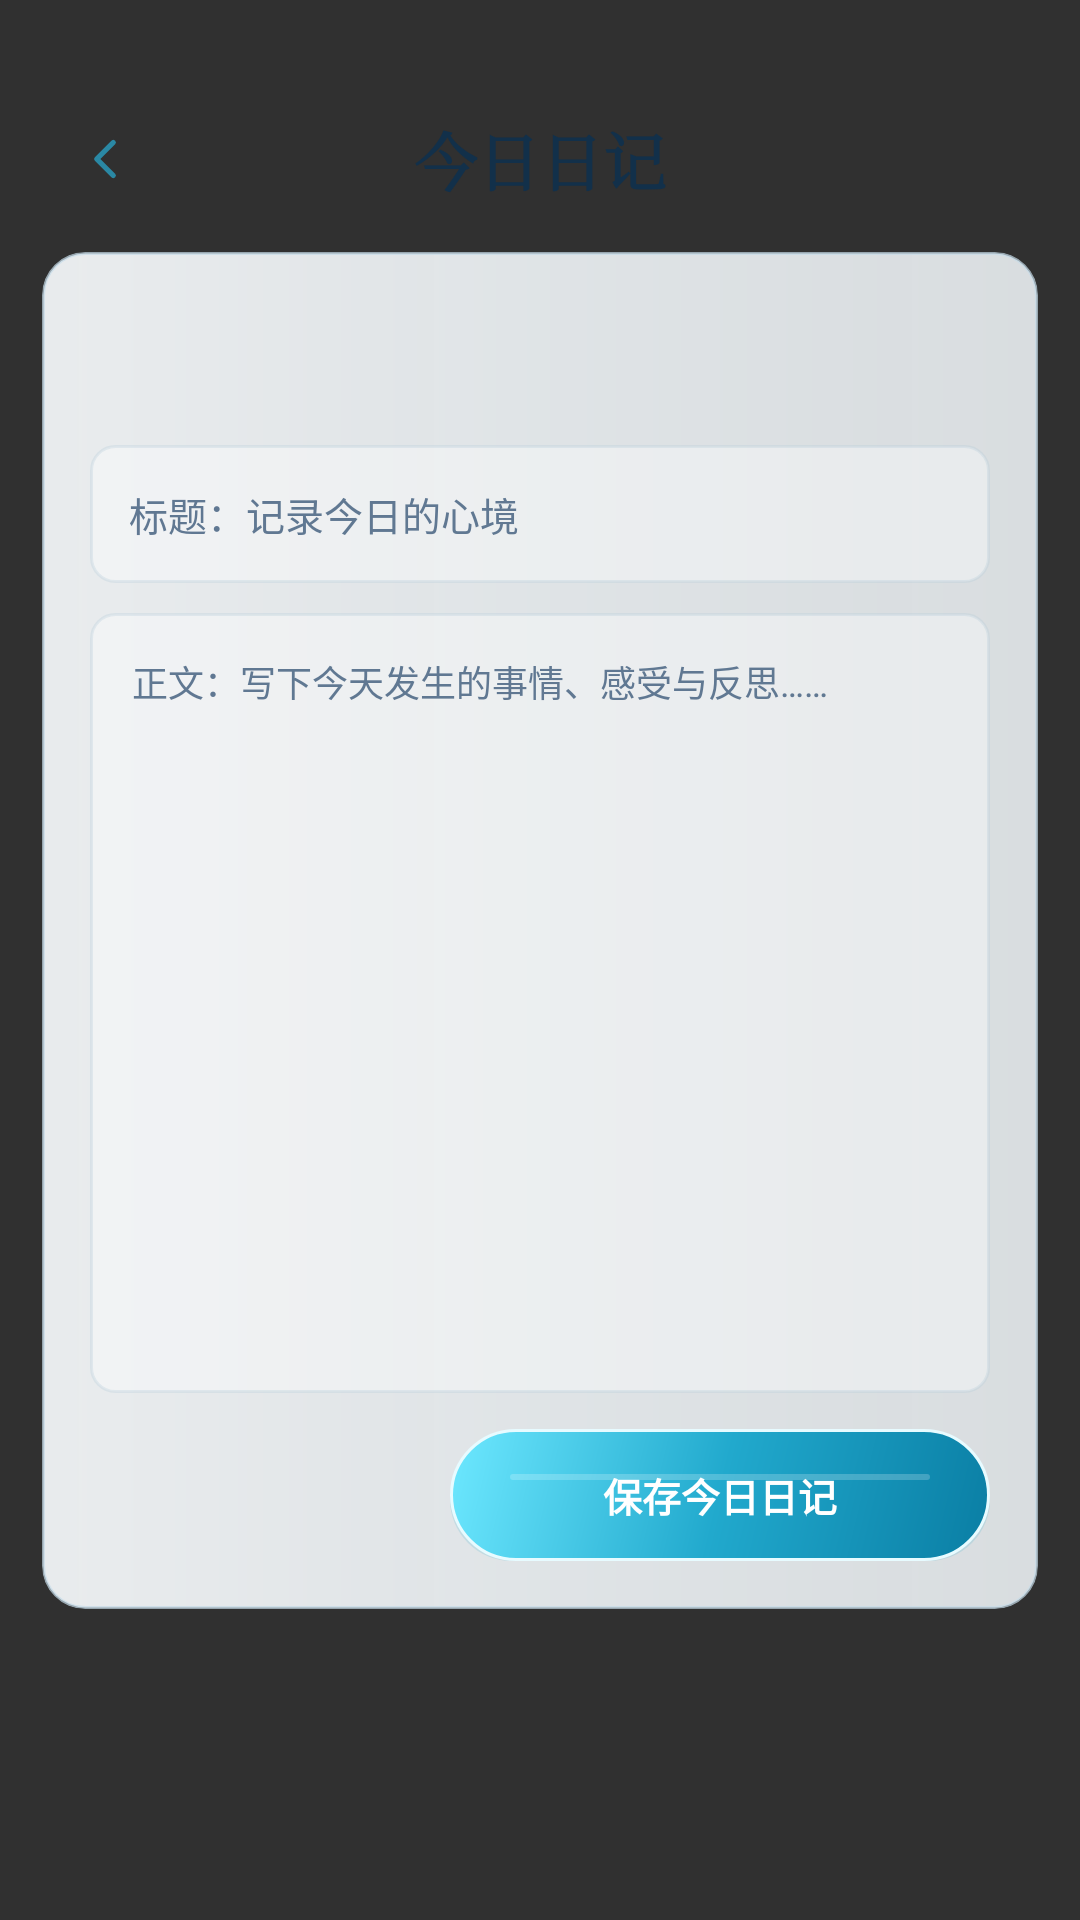

Named icons in this screenshot (1080px x 1920px) and their centers, point (x, y):
返回: point (105, 159)
